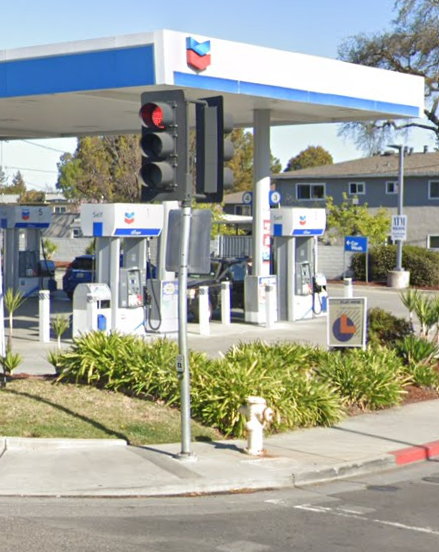red_light: (138, 93, 181, 195)
